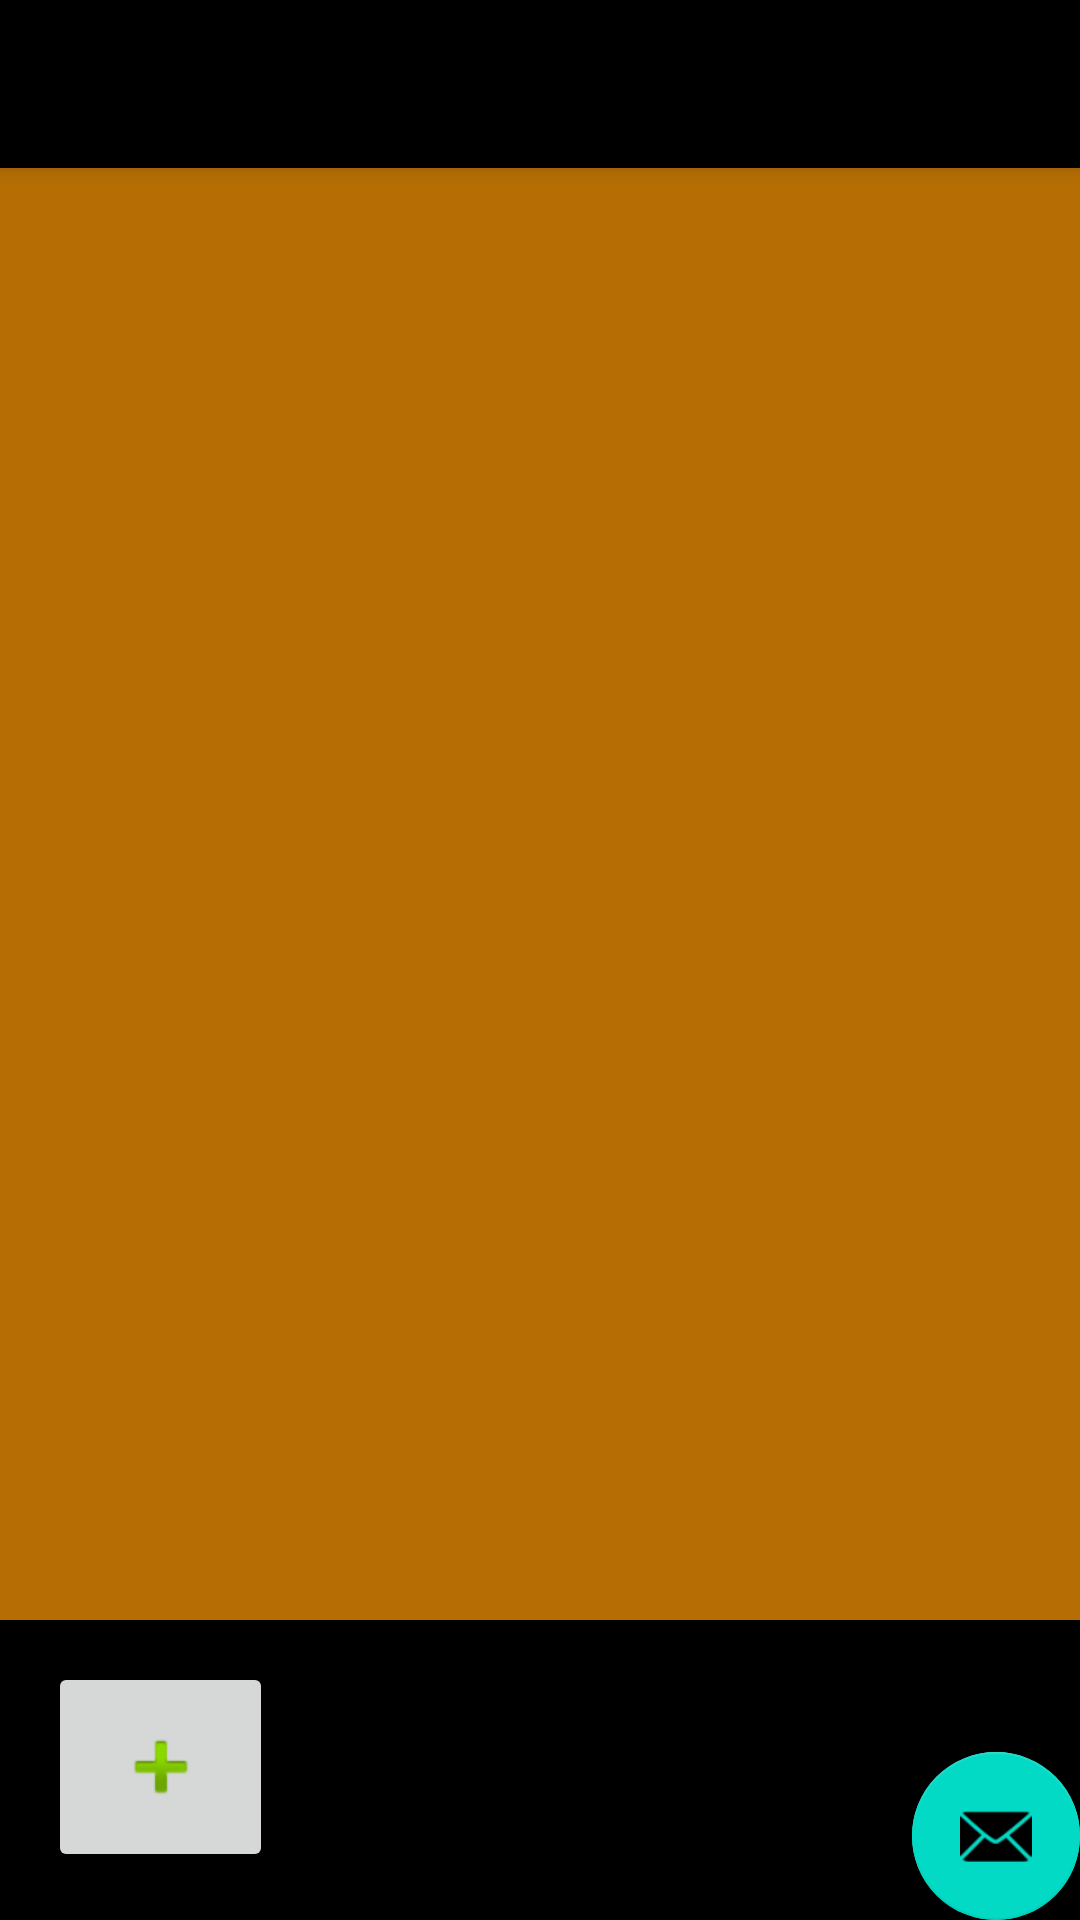

Screen size 1080×1920. Icon name, then its center in pixels as [x,y]:
add: [160,1767]
